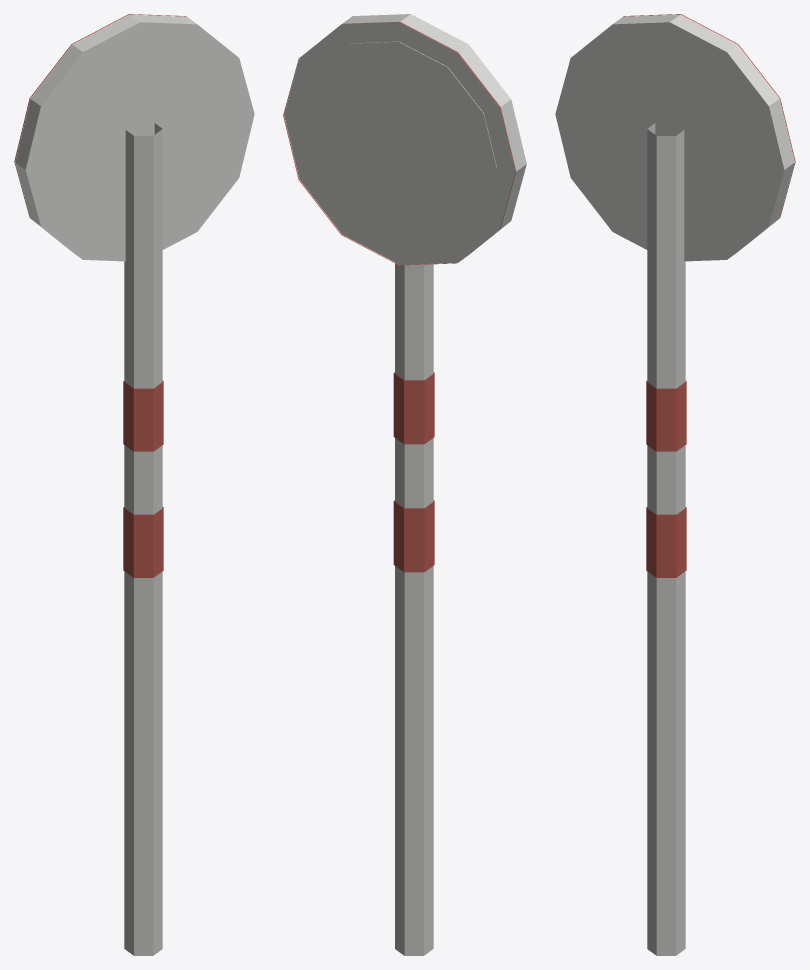
Rendered from SM_BM_BHip_DistPole.glb.
The picture shows the model from 3 angles, left to right: view 1: azimuth 30°, elevation 25°; view 2: azimuth 150°, elevation 25°; view 3: azimuth 330°, elevation 25°; orthographic projection.
Visible parts, largest first — view 1: SM_BM_BHip_DistPole; view 2: SM_BM_BHip_DistPole; view 3: SM_BM_BHip_DistPole.
Part boxes in pixels (x1,y1,x2,y2): SM_BM_BHip_DistPole: (14,14,254,955); SM_BM_BHip_DistPole: (283,14,526,955); SM_BM_BHip_DistPole: (555,14,795,955).
Size of the model in its own units: 0.76 by 2.93 by 0.145.
